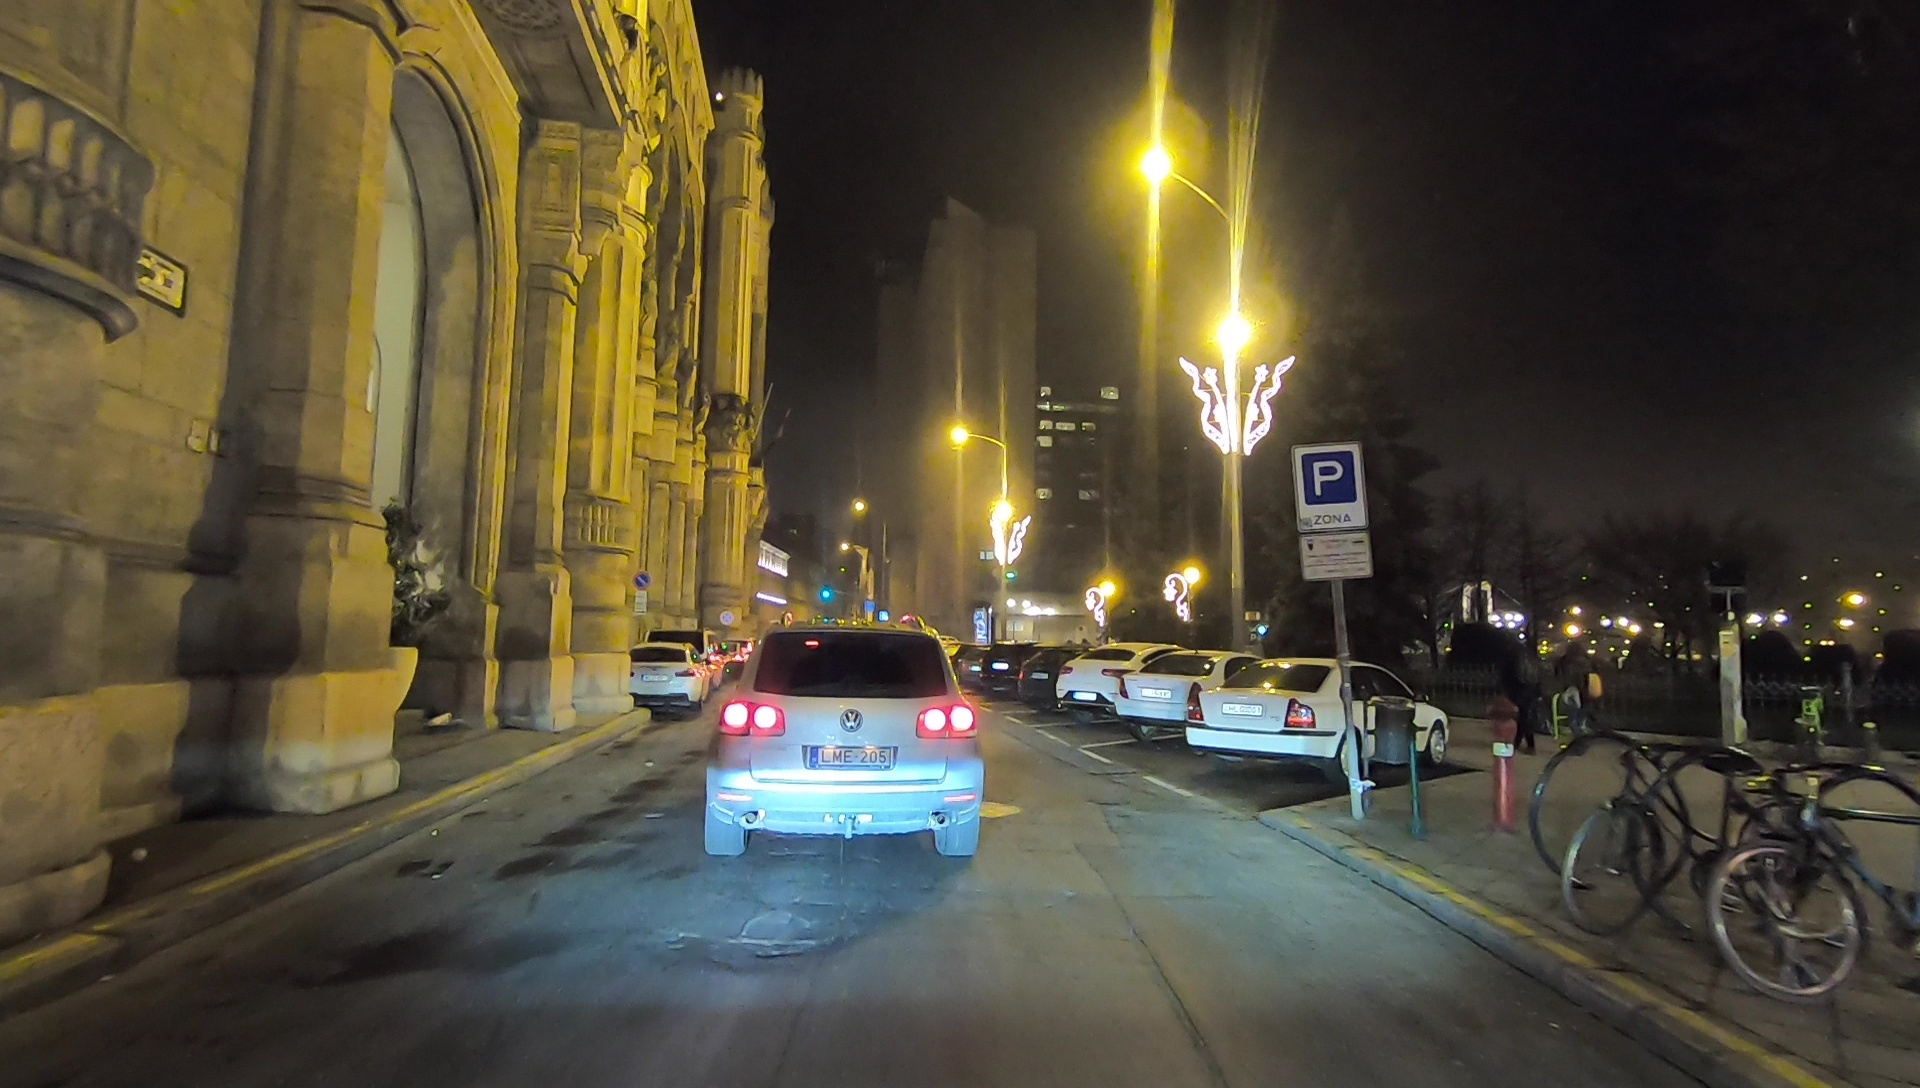person: (1501, 638, 1548, 759), (1554, 643, 1603, 752)
